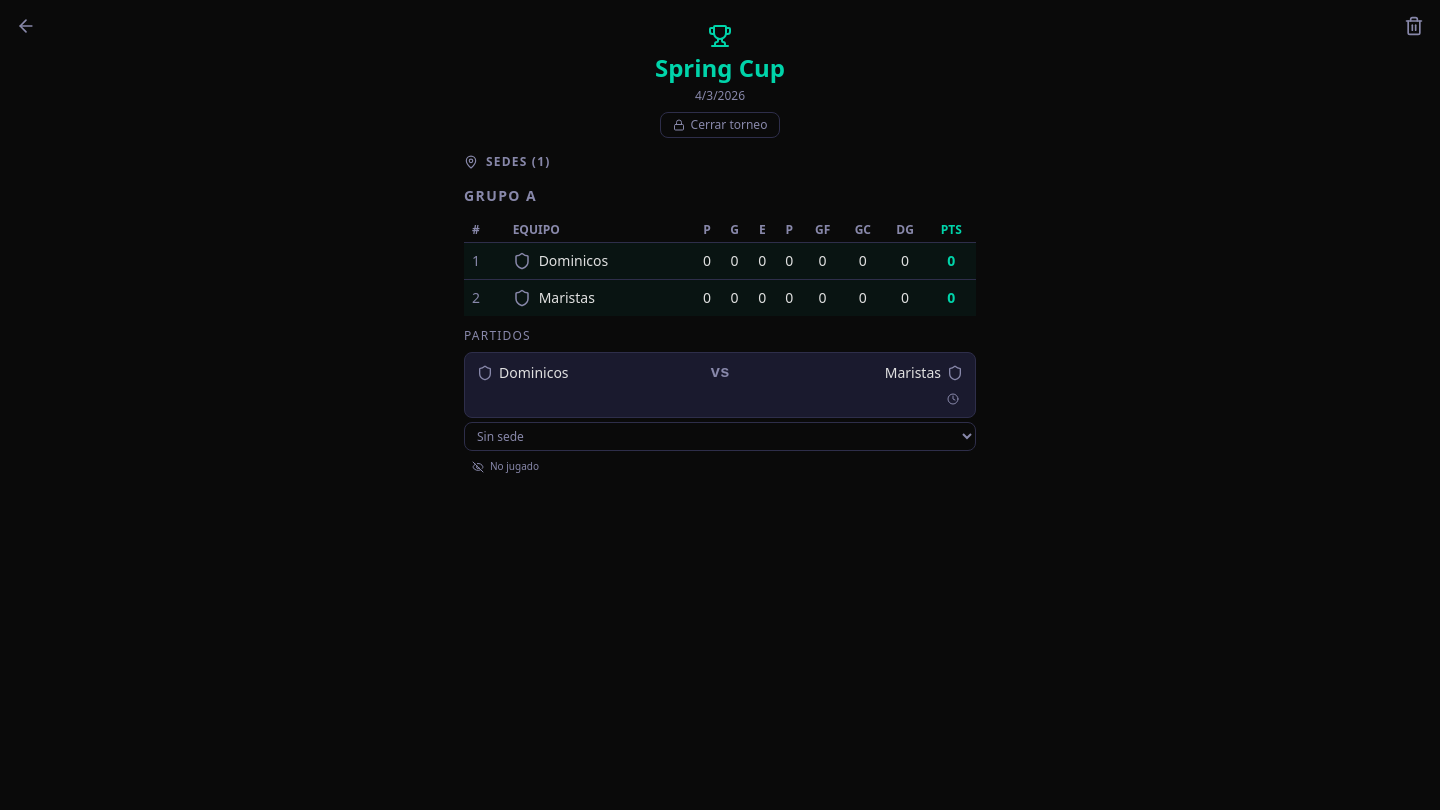
Test: TournamentPage — venue features › opens inline edit form when edit button is clicked
What coordinates should you click on to do the following:
click the button "Sedes (1)"
I would click on:
 (512, 162)
Its box is [464,154,976,170].
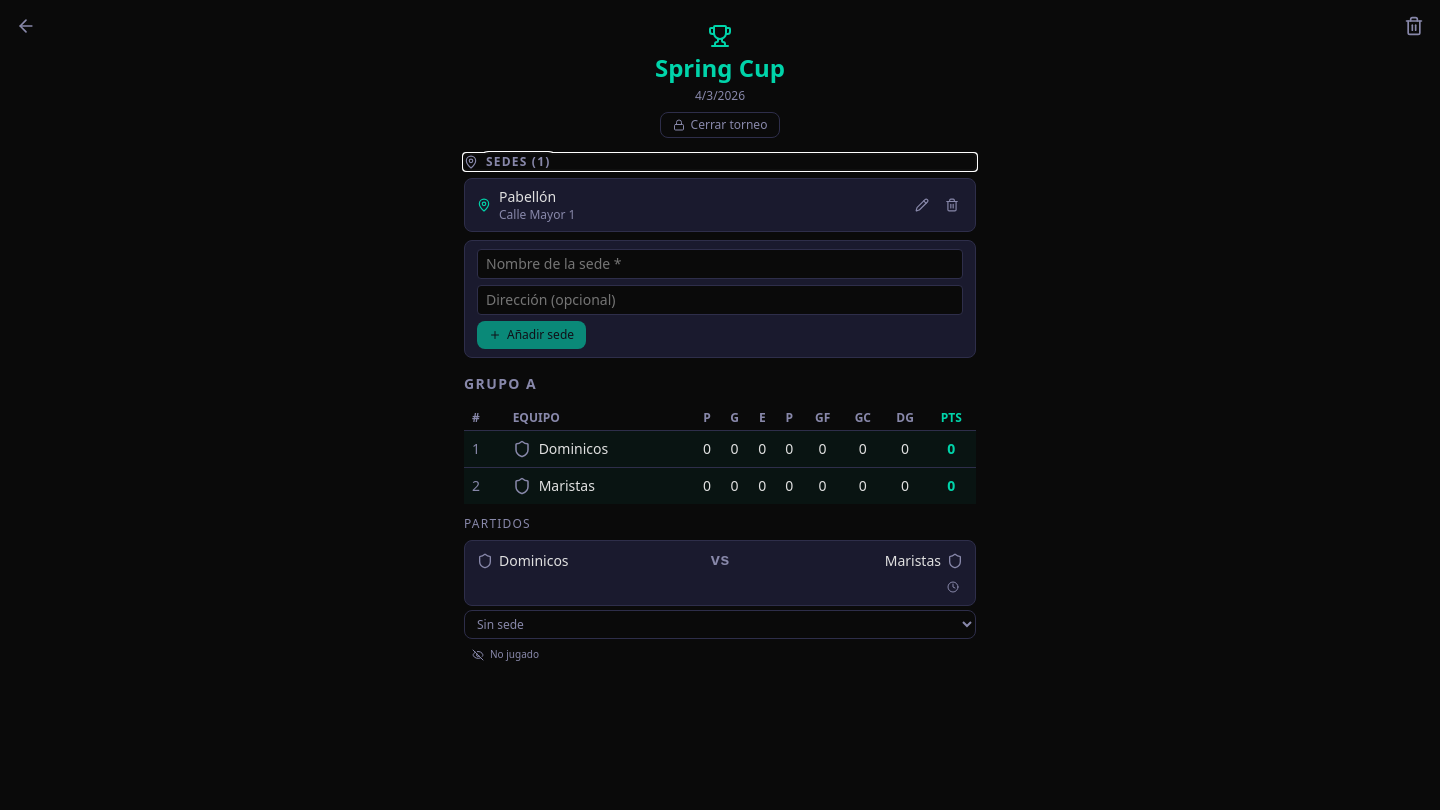
What coordinates should you click on to do the following:
click the button named "Editar Pabellón"
I would click on:
 (922, 205)
Its box is [911,194,933,216].
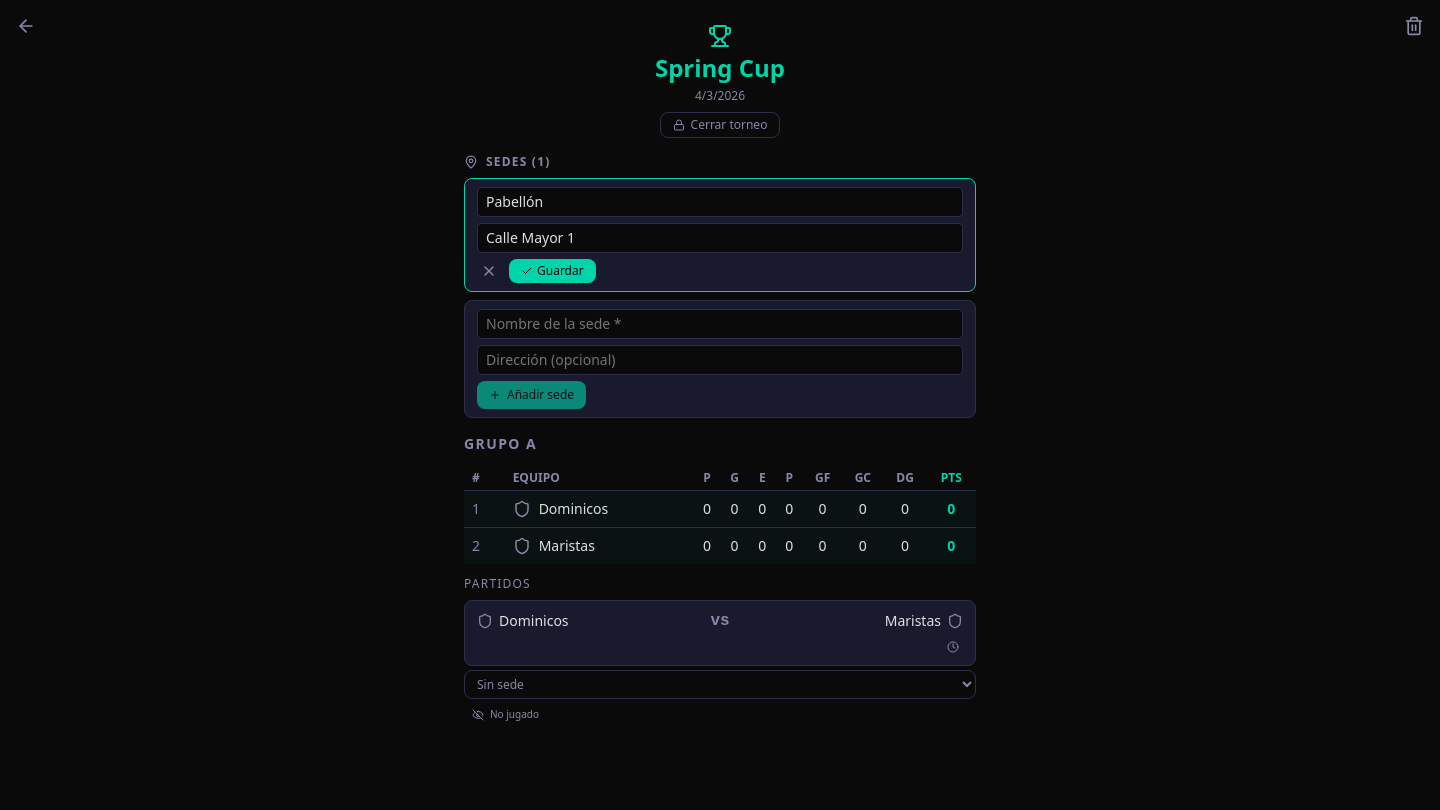
Expected: the 1st field showing "Pabellón" is shown, [477,187,963,217]
Expected: the 2nd field showing "Calle Mayor 1" is shown, [477,223,963,253]
